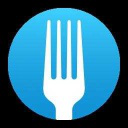fork: (38, 17, 94, 119)
